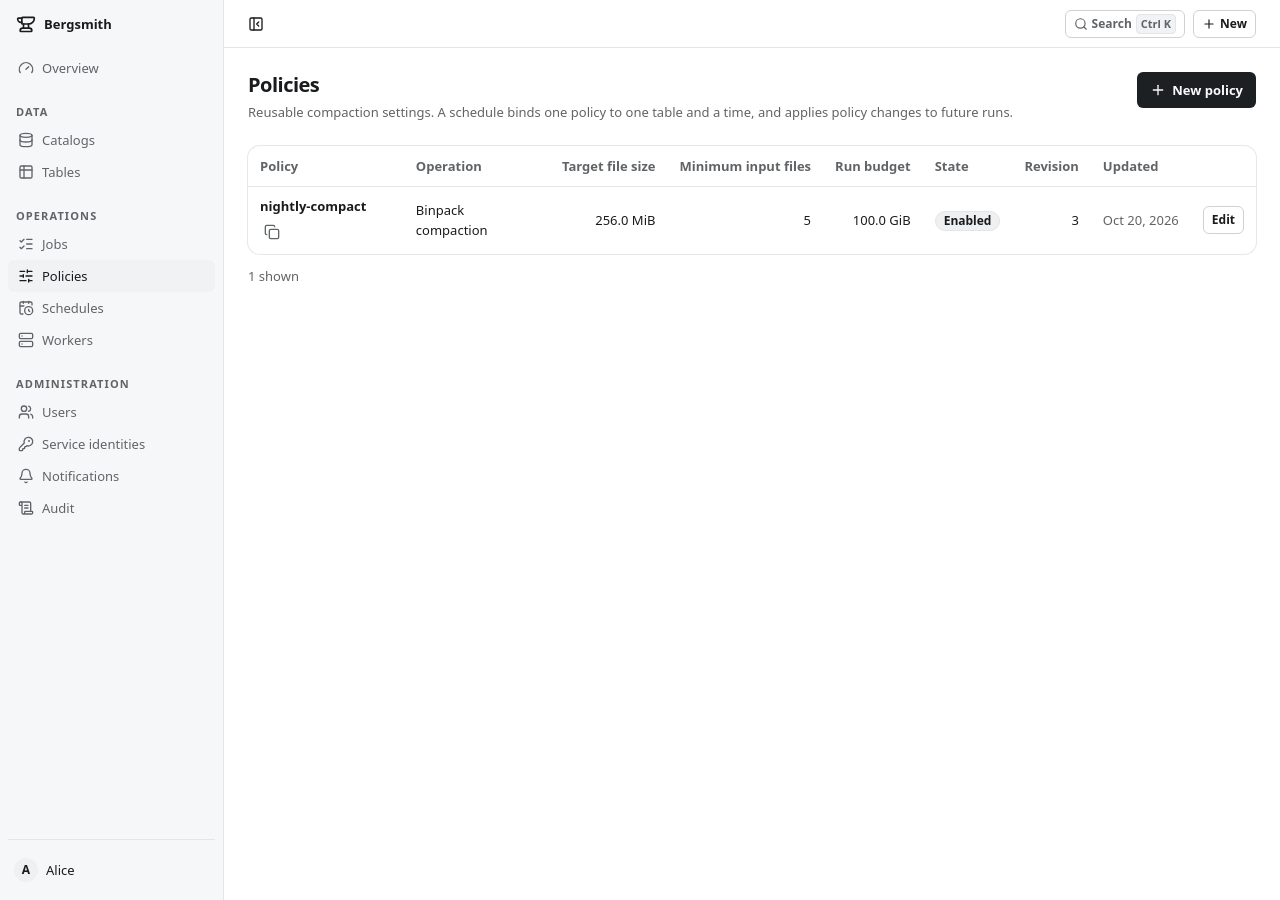
Test: renames and disables a policy in one revision-checked edit
Click the button with aria-label "Edit nightly-compact" at (1223, 220), box x1=1203 y1=206 x2=1244 y2=234
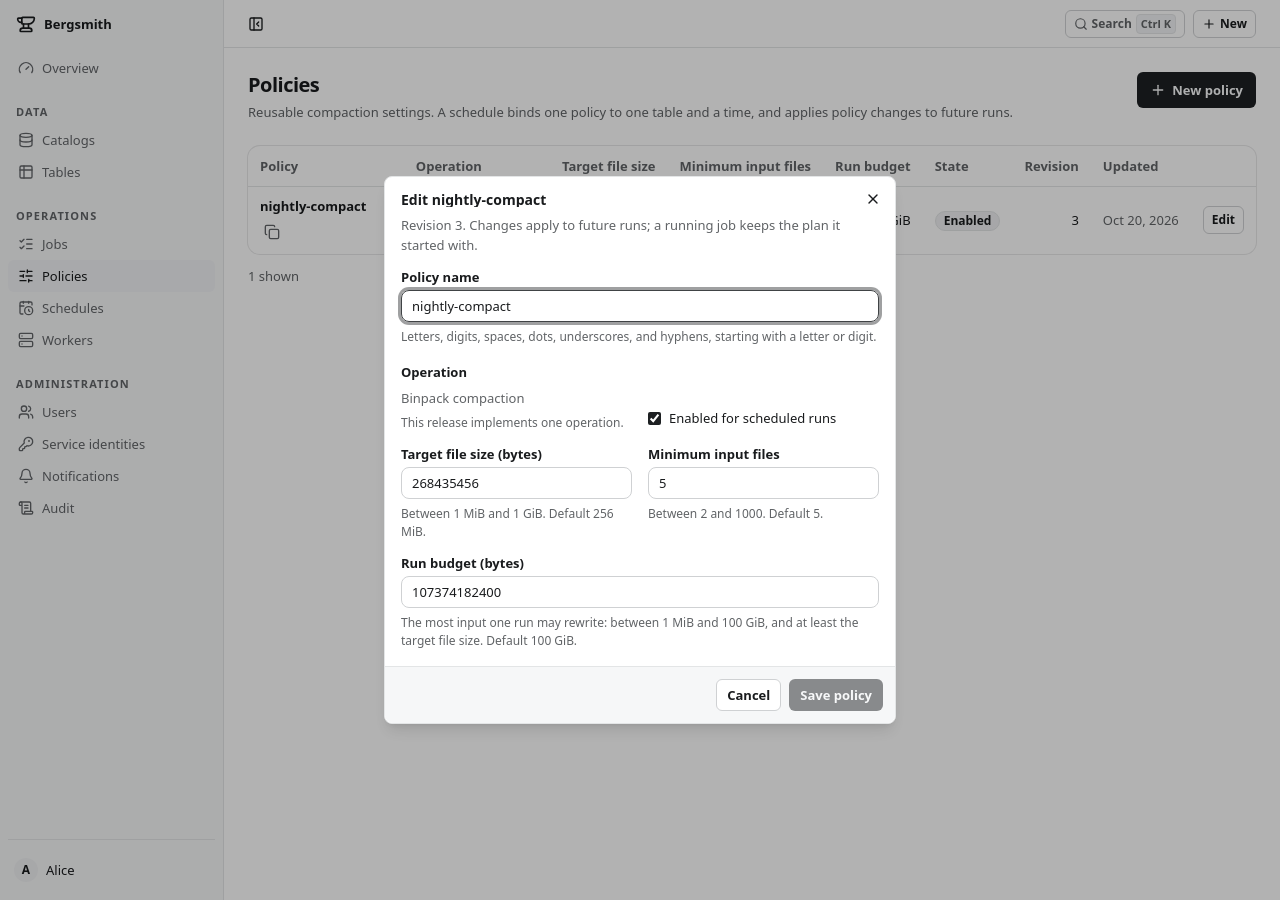
Replace the text in the field labelled "Policy name" with "weekly-compact" at (640, 306), box x1=401 y1=290 x2=879 y2=322
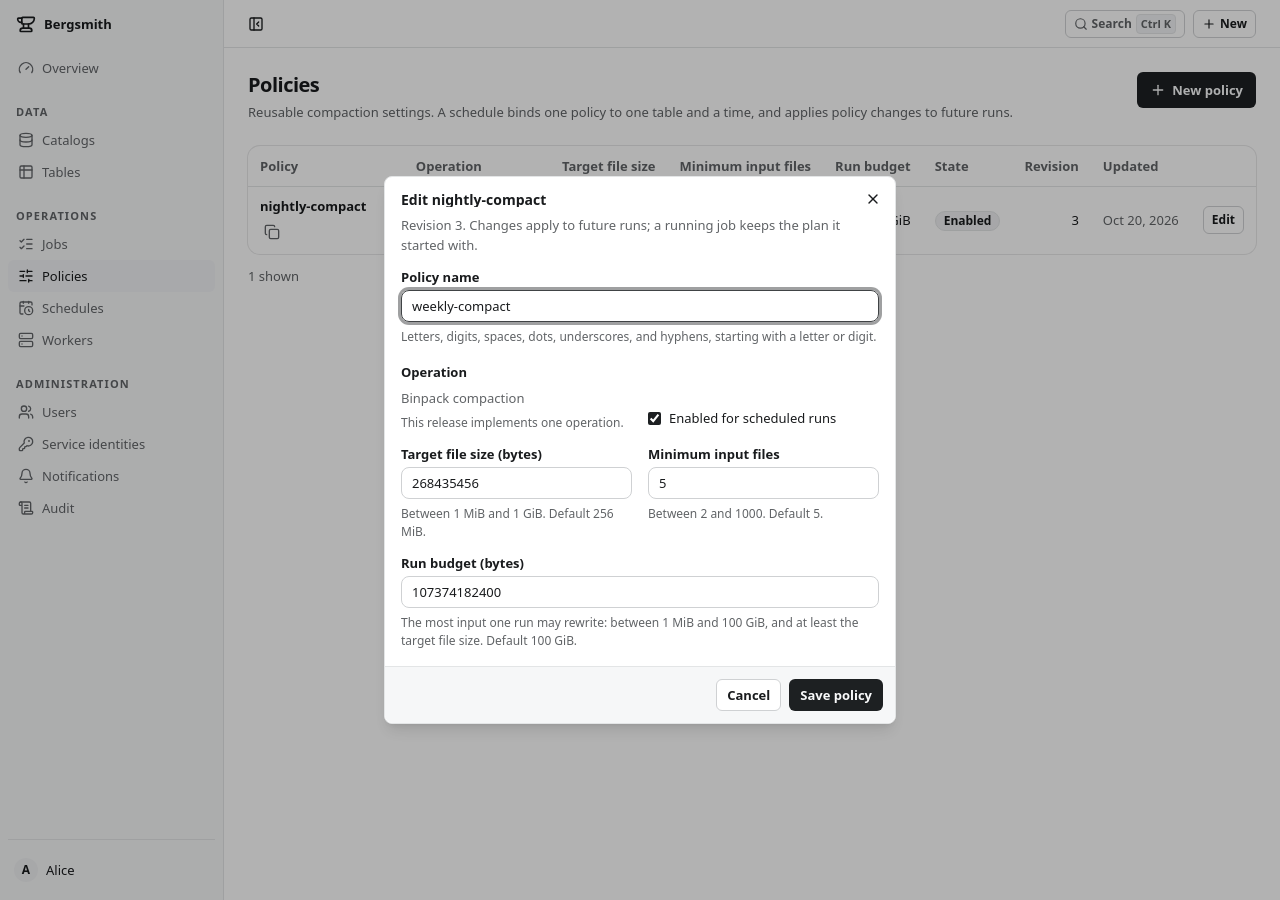
Click the checkbox labelled "Enabled for scheduled runs" at (654, 418), box x1=648 y1=412 x2=661 y2=424
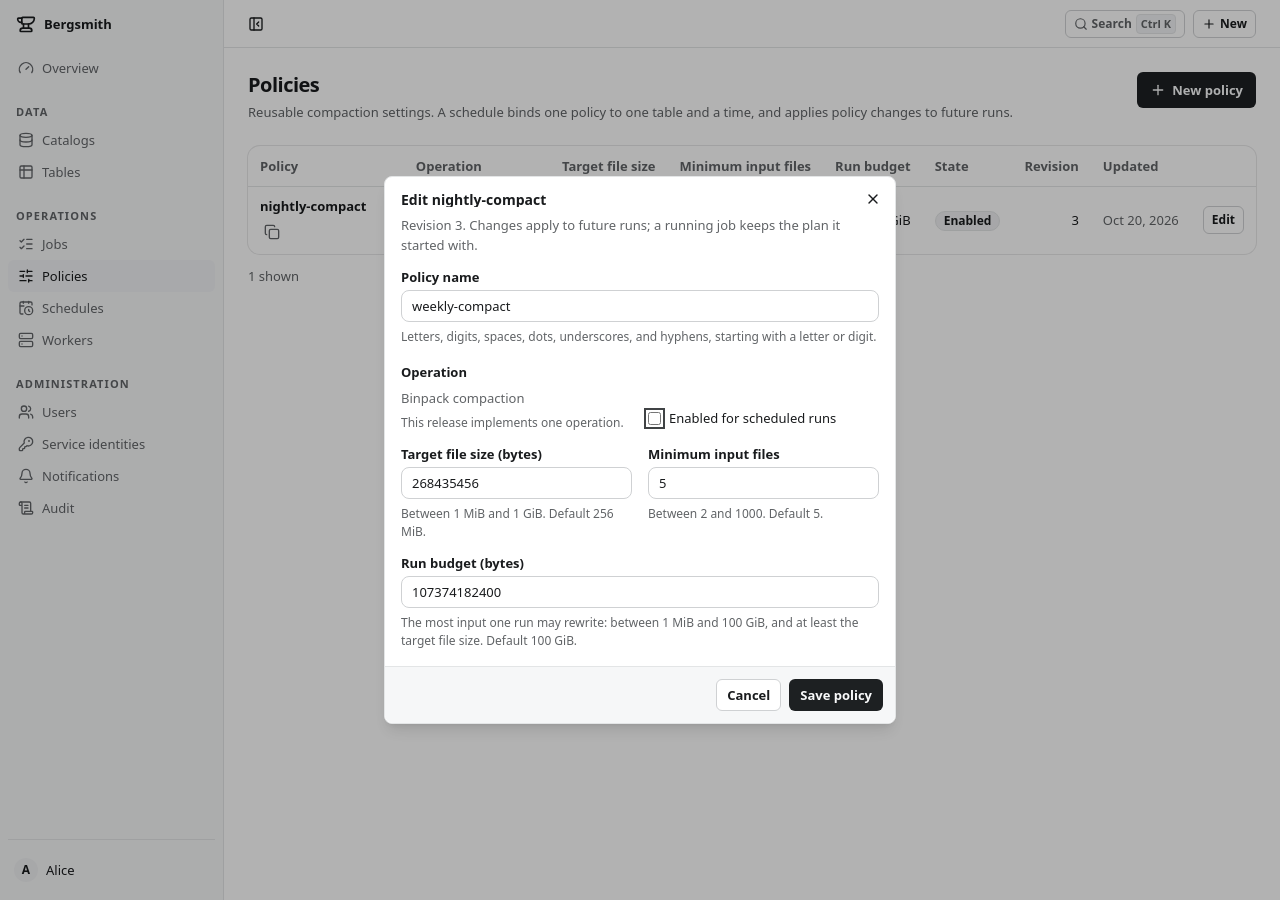
Click the button "Save policy" at (836, 695), box x1=789 y1=679 x2=883 y2=711
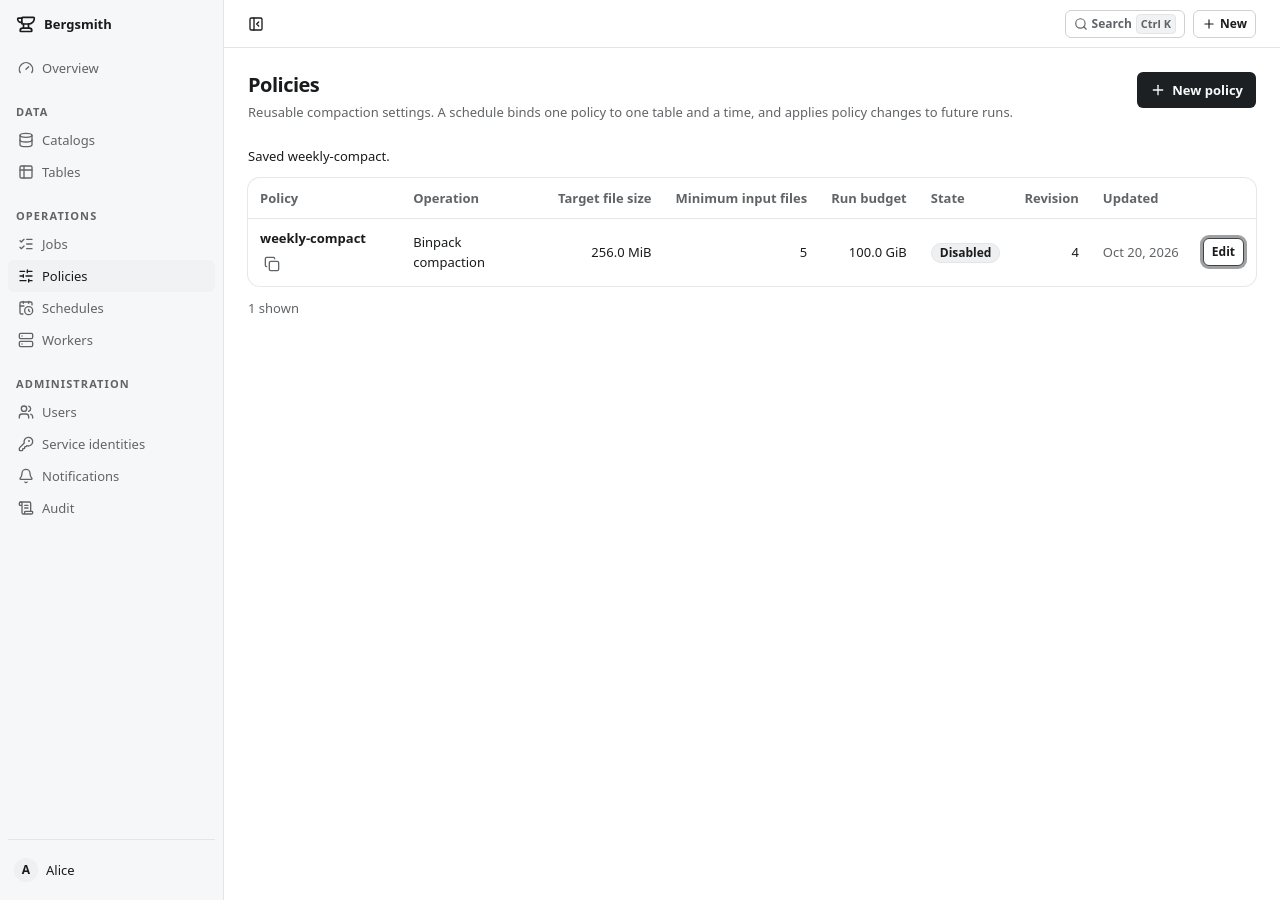
Expected: the text "Saved weekly-compact." is shown, x1=248 y1=147 x2=390 y2=165
Expected: the text "Disabled" is shown, x1=931 y1=243 x2=1000 y2=263
